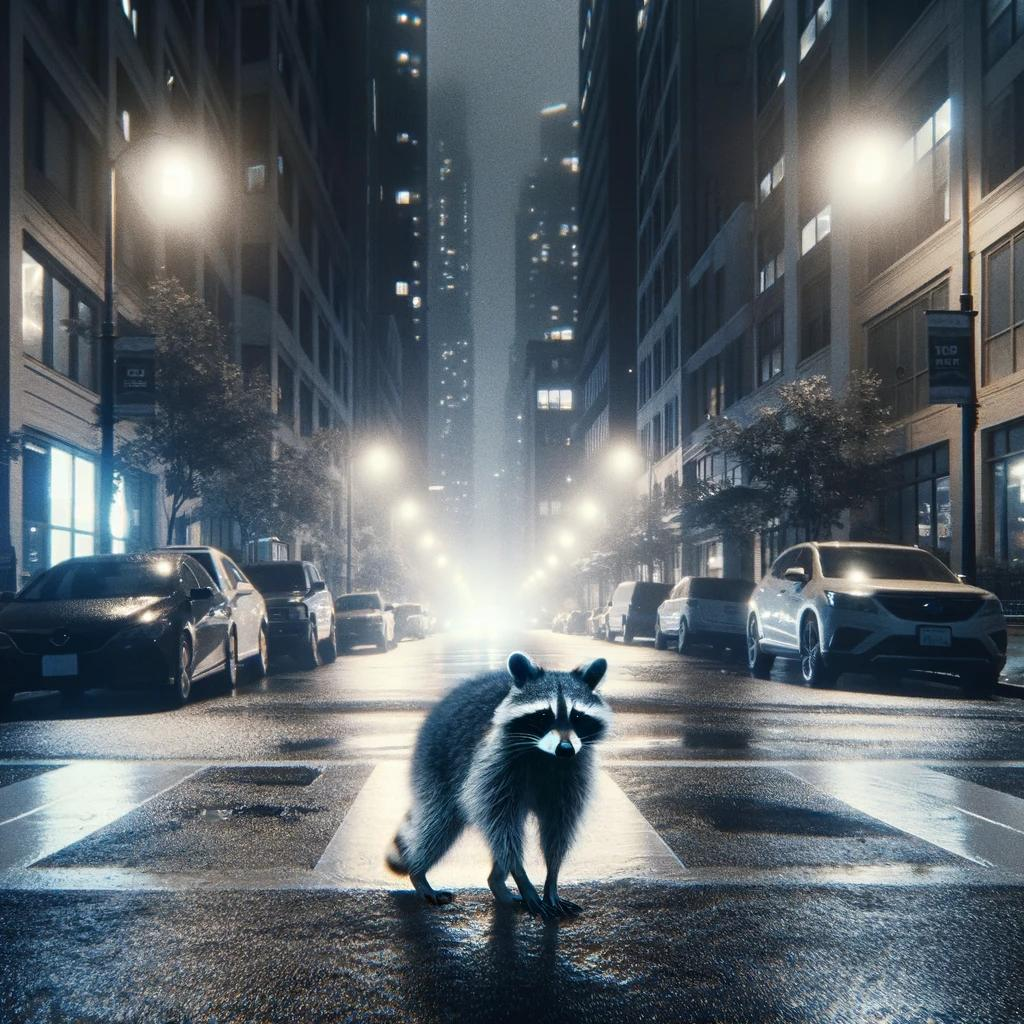raccoon: (373, 642, 627, 933)
